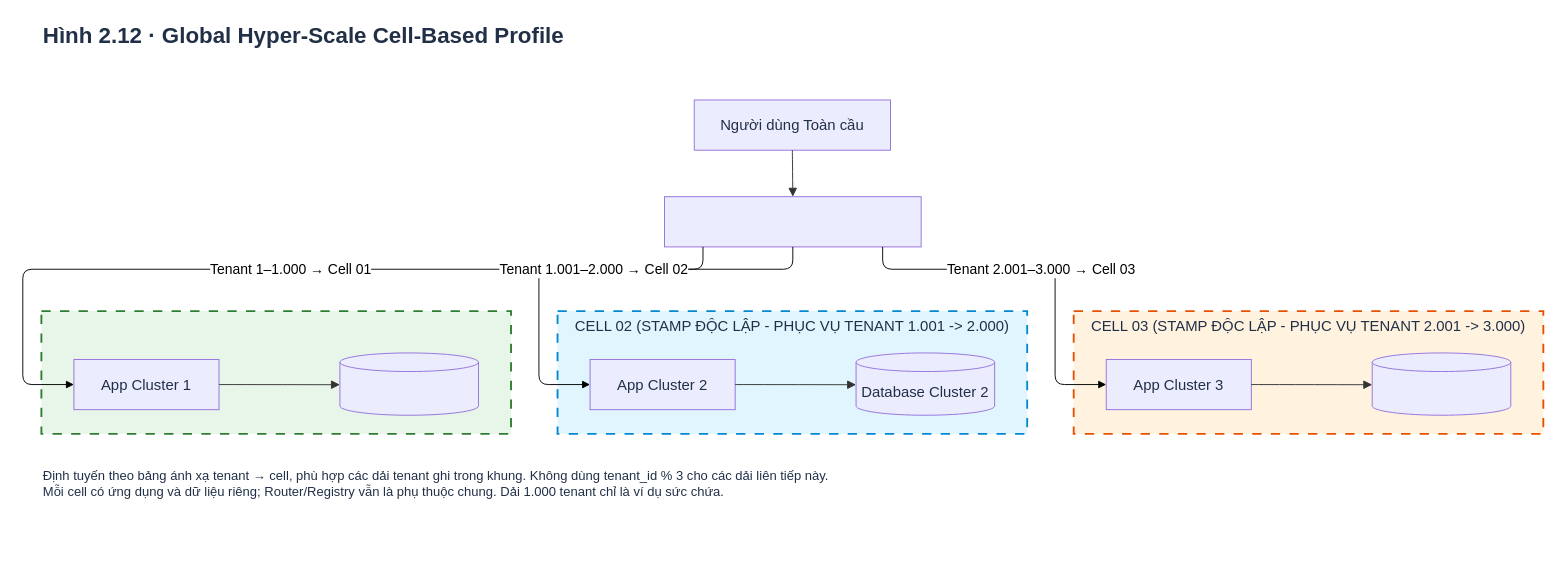
This 1561x570 diagram has some shape labels left out. Each missing label, with the box of its shape:
CELL 01 (STAMP ĐỘC LẬP - PHỤC VỤ TENANT 1 -> 1.000): (40, 310, 512, 434)
Database Cluster 1: (339, 352, 478, 415)
Database Cluster 3: (1371, 352, 1511, 415)
Global API Gateway / Cell Router Tra bảng ánh xạ tenant → cell: (664, 196, 921, 247)
